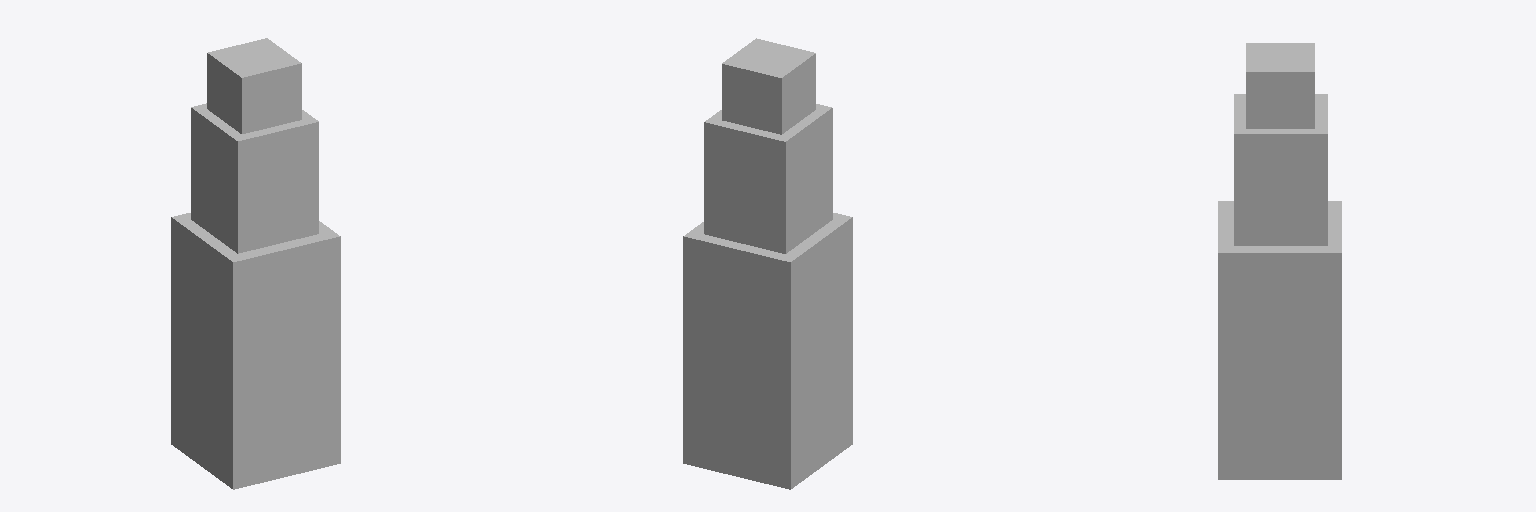
File: highrise_11.obj
3 views of the same model, side by side, from view 1: azimuth 30°, elevation 25°; view 2: azimuth 150°, elevation 25°; view 3: azimuth 270°, elevation 25° (orthographic).
Parts seen in each view (by area): view 1: Mesh1 Model; view 2: Mesh1 Model; view 3: Mesh1 Model.
Boxes of the visible parts, x1,y1,x2,y2 form: Mesh1 Model: [171, 38, 340, 489]; Mesh1 Model: [683, 38, 852, 489]; Mesh1 Model: [1218, 43, 1341, 479].
Size of the model in its own units: 25 by 88.25 by 25.